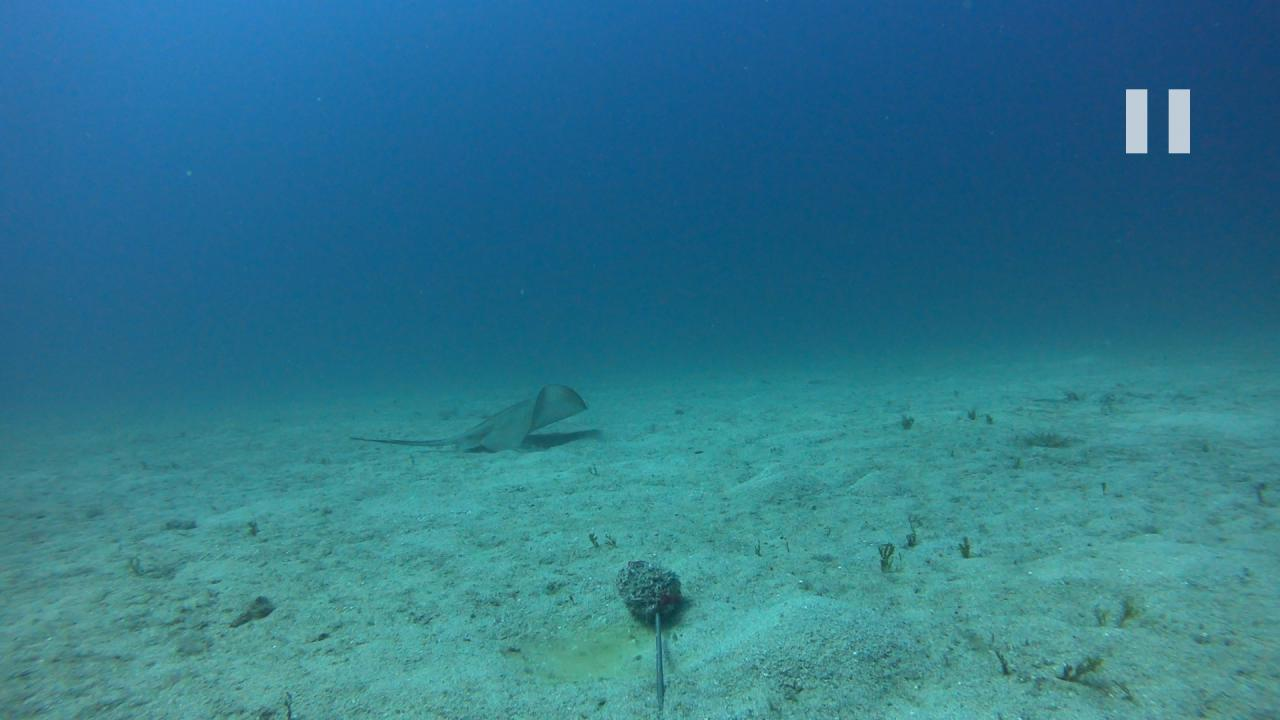dasyatis: (346, 381, 590, 452)
